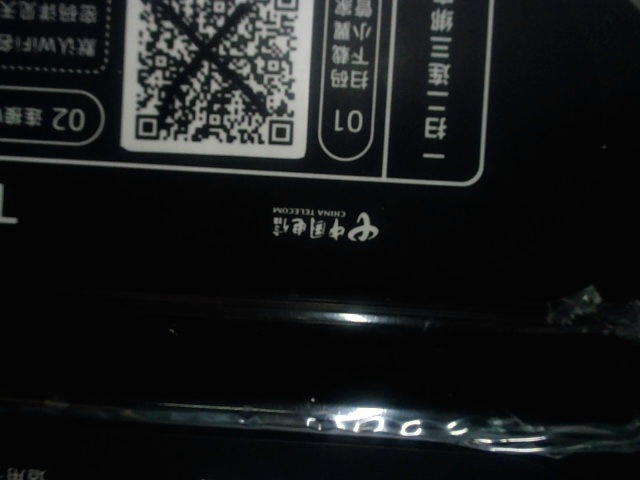AB_ChinaTelecom: (258, 192, 399, 246)
